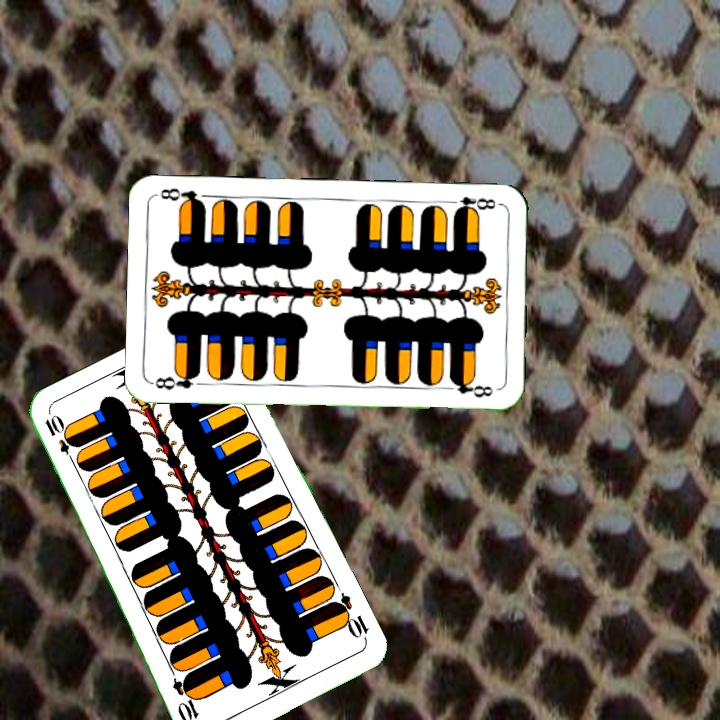E10: (328, 590, 372, 645), (41, 410, 80, 467)
E8: (444, 193, 503, 216), (149, 368, 203, 393)
